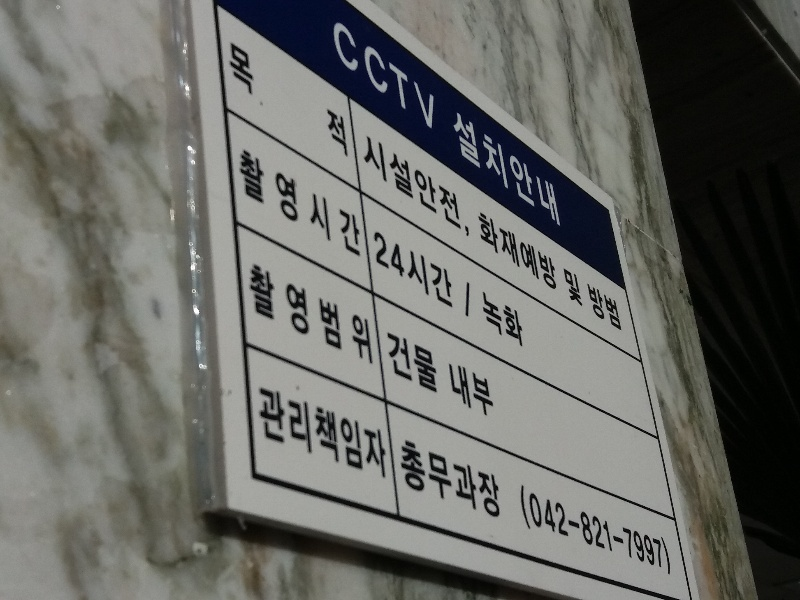text: (465, 110, 480, 230), (481, 110, 496, 230), (497, 110, 512, 230), (513, 110, 528, 230), (529, 110, 544, 230), (545, 110, 560, 230), (241, 41, 256, 159), (257, 41, 272, 159), (273, 41, 288, 159), (289, 41, 304, 159), (305, 41, 320, 159), (321, 41, 336, 159), (337, 18, 352, 134), (353, 18, 368, 134), (369, 18, 384, 134), (385, 18, 400, 134), (401, 18, 416, 134), (417, 18, 432, 134), (241, 146, 256, 259), (257, 146, 272, 259), (273, 146, 288, 259), (289, 146, 304, 259), (305, 146, 320, 259), (321, 146, 336, 259), (337, 146, 352, 259), (369, 132, 384, 238), (385, 132, 400, 238), (401, 132, 416, 238), (417, 132, 432, 238), (433, 132, 448, 238), (449, 132, 464, 238), (257, 260, 272, 365), (273, 260, 288, 365), (289, 260, 304, 365), (305, 260, 320, 365), (321, 260, 336, 365), (337, 260, 352, 365), (353, 260, 368, 365), (337, 41, 350, 159), (657, 483, 673, 578), (257, 383, 272, 482), (273, 383, 288, 482), (289, 383, 304, 482), (305, 383, 320, 482), (321, 383, 336, 482), (337, 383, 352, 482), (353, 383, 368, 482), (369, 383, 384, 482), (529, 483, 544, 578), (545, 483, 560, 578), (561, 483, 576, 578), (577, 483, 592, 578), (593, 483, 608, 578), (609, 483, 624, 578), (625, 483, 640, 578), (641, 483, 656, 578), (385, 229, 400, 320), (401, 229, 416, 320), (417, 229, 432, 320), (433, 229, 448, 320), (449, 229, 464, 320), (401, 438, 416, 525), (417, 438, 432, 525), (433, 438, 448, 525), (449, 438, 464, 525), (465, 438, 480, 525), (481, 438, 496, 525), (481, 210, 496, 292), (497, 210, 512, 292), (513, 210, 528, 292), (529, 210, 544, 292), (230, 41, 240, 159), (353, 146, 363, 259), (385, 328, 400, 395), (401, 328, 416, 395), (417, 328, 432, 395), (577, 266, 592, 333), (593, 266, 608, 333), (545, 210, 557, 292), (456, 110, 464, 230), (247, 260, 256, 365), (609, 266, 623, 333), (374, 229, 384, 320), (449, 360, 464, 420), (465, 360, 480, 420), (497, 290, 512, 350), (563, 266, 576, 333), (481, 360, 495, 420), (482, 290, 496, 350), (520, 483, 528, 578), (465, 132, 472, 238), (513, 290, 525, 350), (465, 229, 471, 320), (369, 260, 374, 365), (497, 438, 503, 525), (385, 383, 389, 482), (433, 18, 436, 134), (433, 328, 438, 395), (478, 210, 480, 292), (561, 110, 562, 230), (239, 146, 240, 259), (367, 132, 368, 238)
